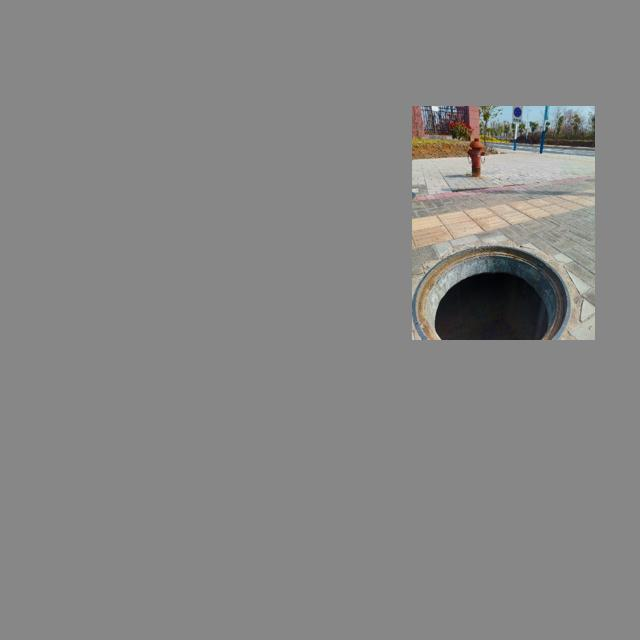lose: (412, 244, 570, 338)
